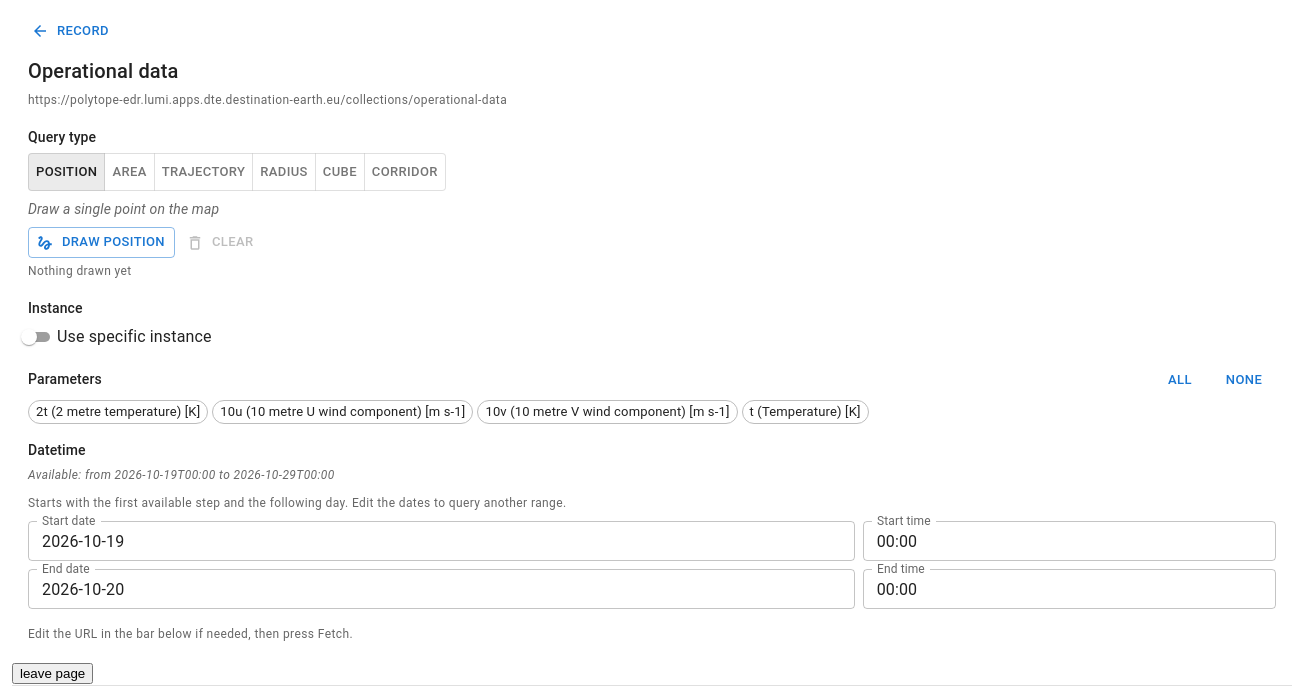
Scenario: EDR page › switching mode clears the drawing and URL; Clear does too
This screenshot has width=1292, height=688.
Click the button "Draw position" at (101, 243), box left=28, top=228, right=175, bottom=258
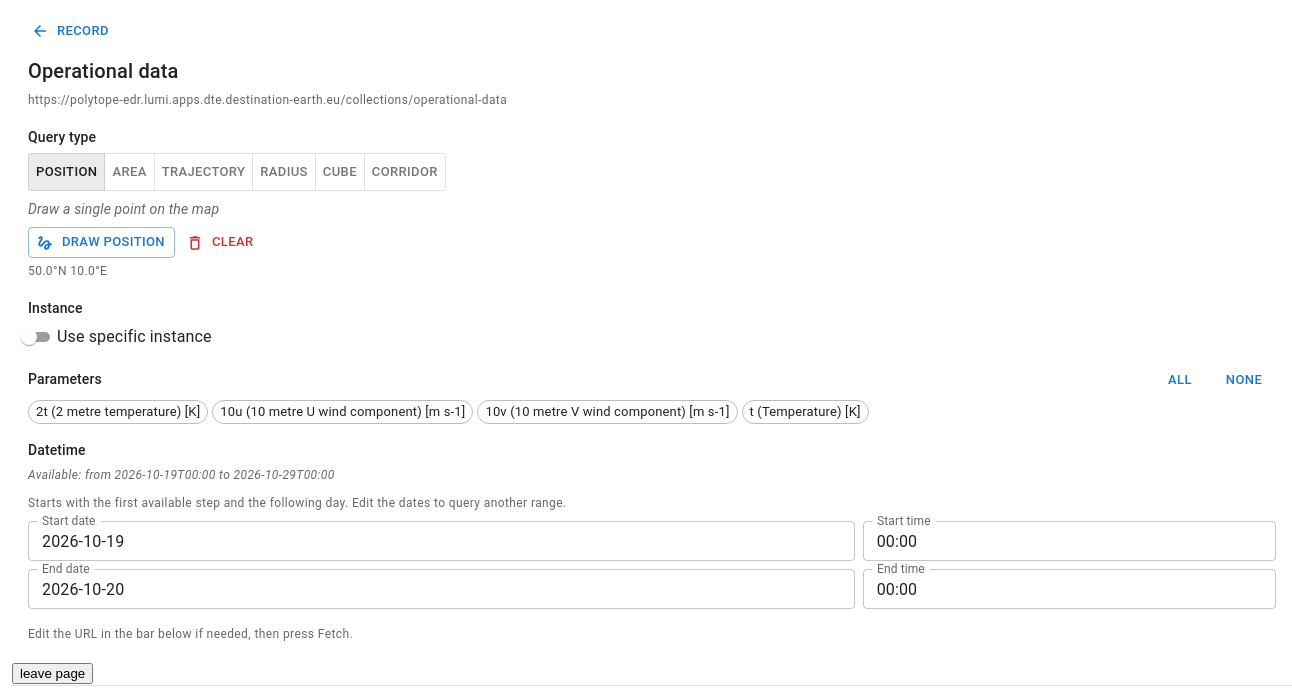
Click the button "Area" at (130, 172), box left=104, top=153, right=155, bottom=192
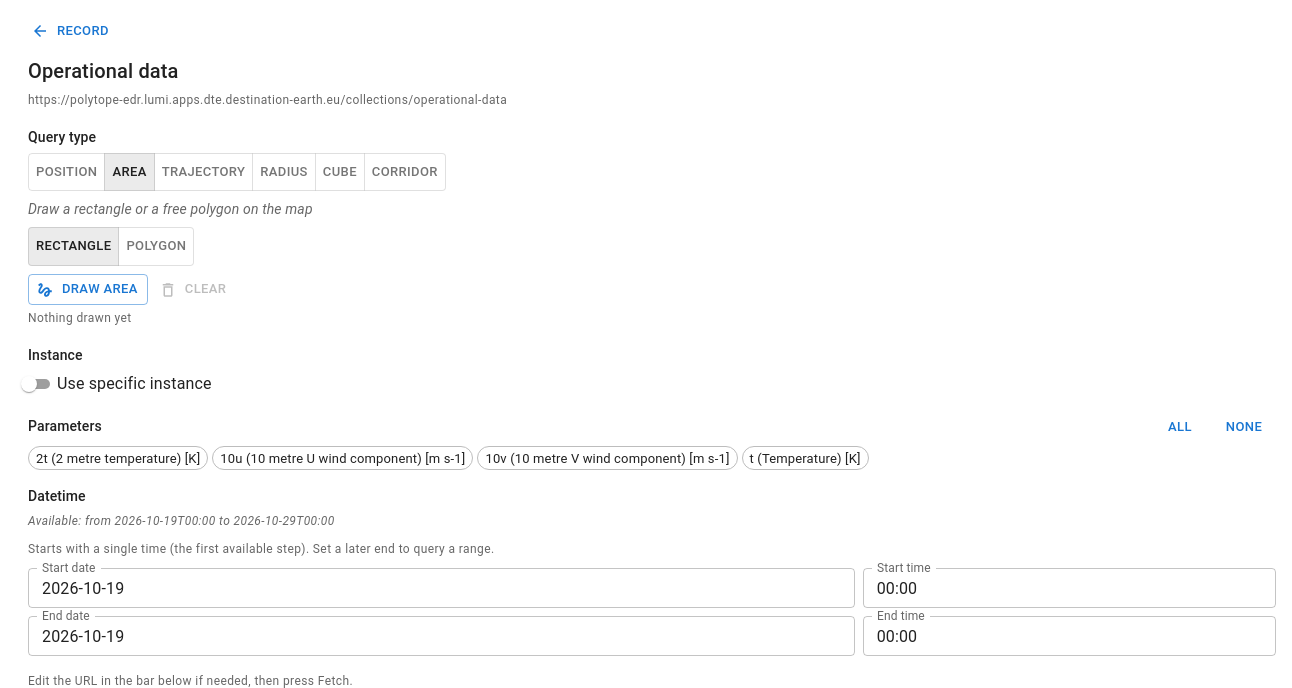
Expected: the text with test id "edr-geometry" reads "Nothing drawn yet", left=28, top=311, right=132, bottom=325
